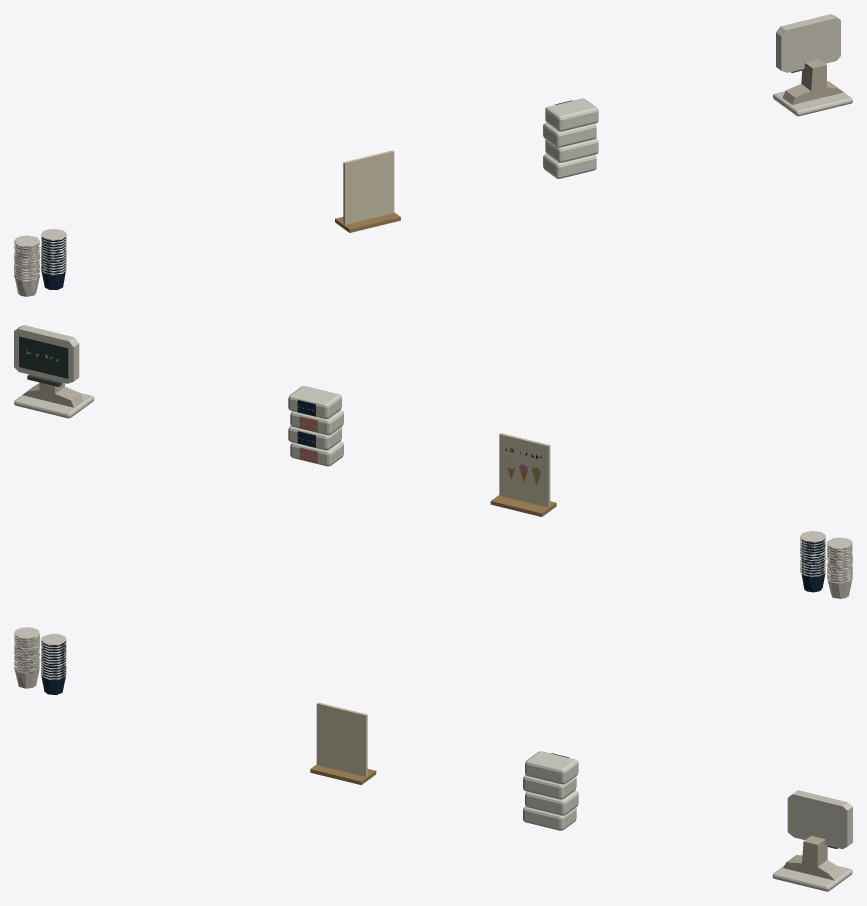
The model's file is packs.glb.
3 renders of one model, top to bottom at view 1: azimuth 30°, elevation 25°; view 2: azimuth 150°, elevation 25°; view 3: azimuth 330°, elevation 25°, orthographic.
Parts seen in each view (by area): view 1: Gelati_packs; view 2: Gelati_packs; view 3: Gelati_packs.
Boxes of the visible parts, x1,y1,x2,y2 form: Gelati_packs: [14, 14, 852, 296]; Gelati_packs: [14, 325, 852, 598]; Gelati_packs: [14, 627, 852, 891].
Size of the model in its own units: 5.27 by 0.453 by 0.3572.
